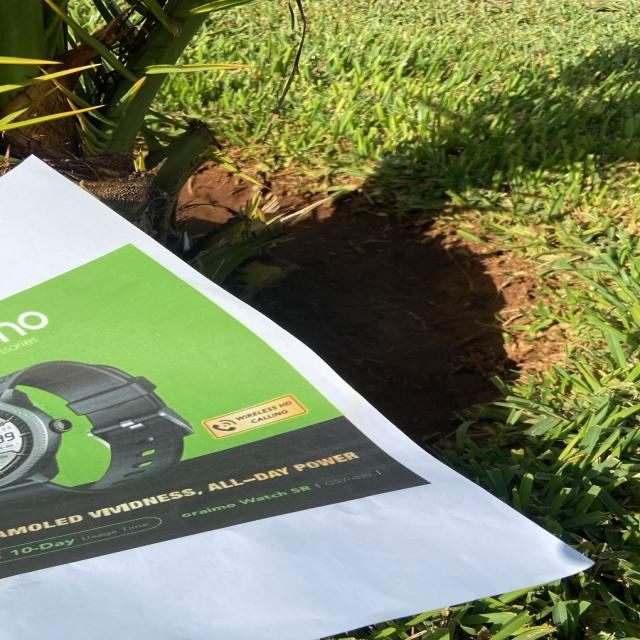Oraimo Watch 5R OSW-820: (181, 464, 393, 524)
